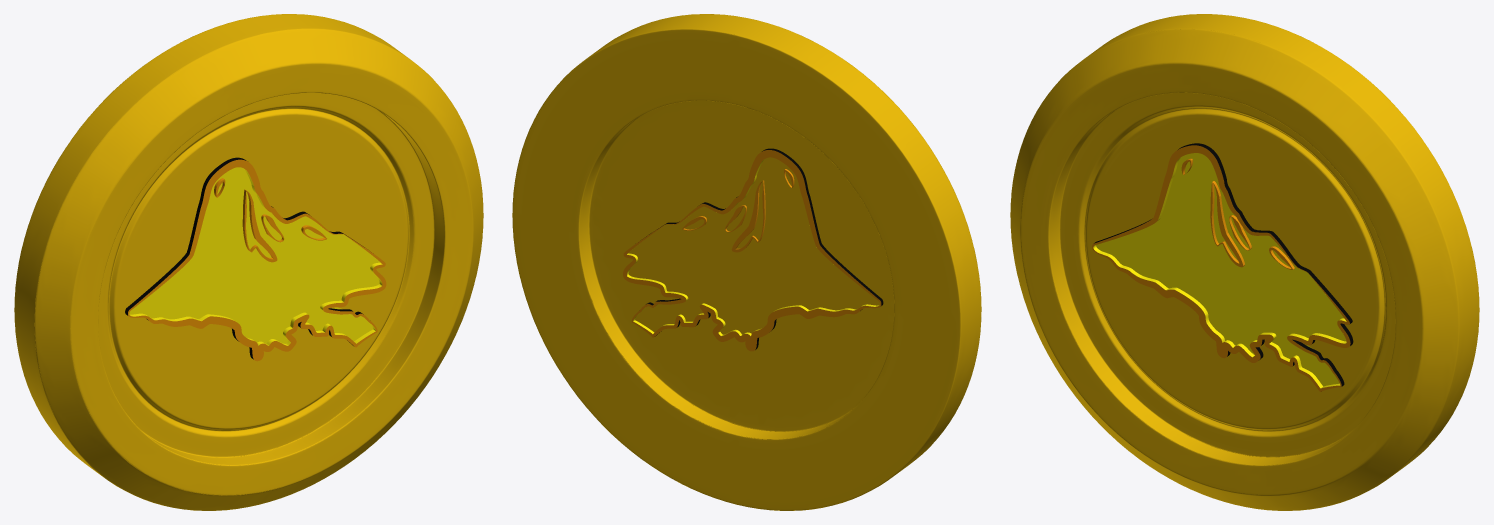
Rendered from islandCoin-transformed.glb.
The picture shows the model from 3 angles, left to right: view 1: azimuth 30°, elevation 25°; view 2: azimuth 150°, elevation 25°; view 3: azimuth 330°, elevation 25°; orthographic projection.
Parts seen in each view (by area): view 1: Cylinder.001, Curve.004, Curve.005, Curve.002; view 2: Cylinder.001, Curve.003, Curve.001; view 3: Cylinder.001, Curve.004, Curve.005, Curve.002.
Part boxes in pixels (x1,y1,x2,y2): Cylinder.001: (14, 14, 483, 510); Curve.004: (125, 157, 386, 361); Curve.005: (129, 167, 378, 343); Curve.002: (214, 178, 326, 262); Cylinder.001: (512, 14, 981, 510); Curve.003: (623, 148, 883, 351); Curve.001: (682, 169, 794, 252); Cylinder.001: (1010, 14, 1479, 510); Curve.004: (1092, 143, 1353, 391); Curve.005: (1096, 154, 1344, 385); Curve.002: (1181, 158, 1294, 269).
Size of the model in its own units: 2.94 by 2.94 by 0.3803.
